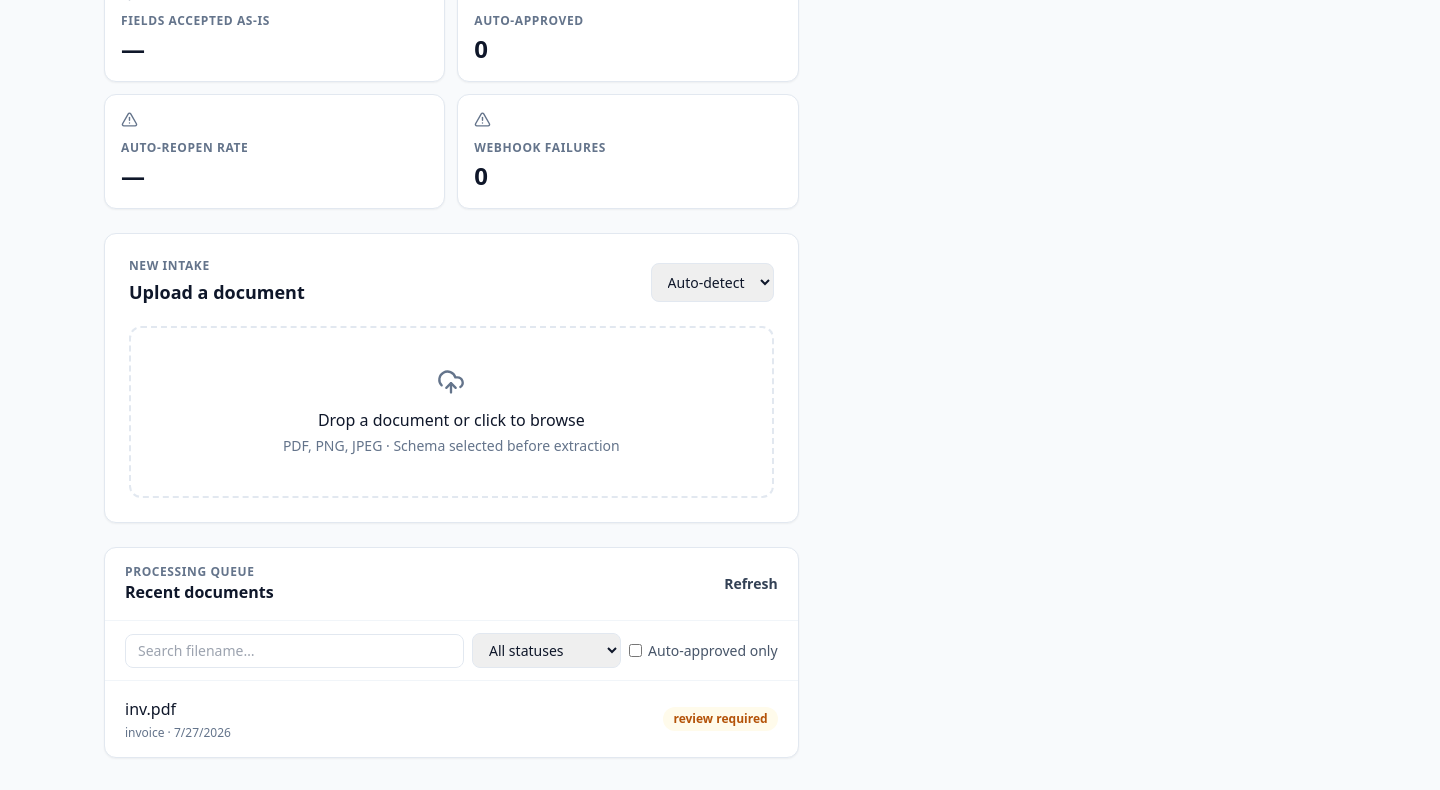
anomaly chips + real pipeline trace › renders an amber chip for each anomaly on the selected document
(page scrolled)
Click the text "inv.pdf" at (150, 709), box [125,698,176,720]
(page scrolled)
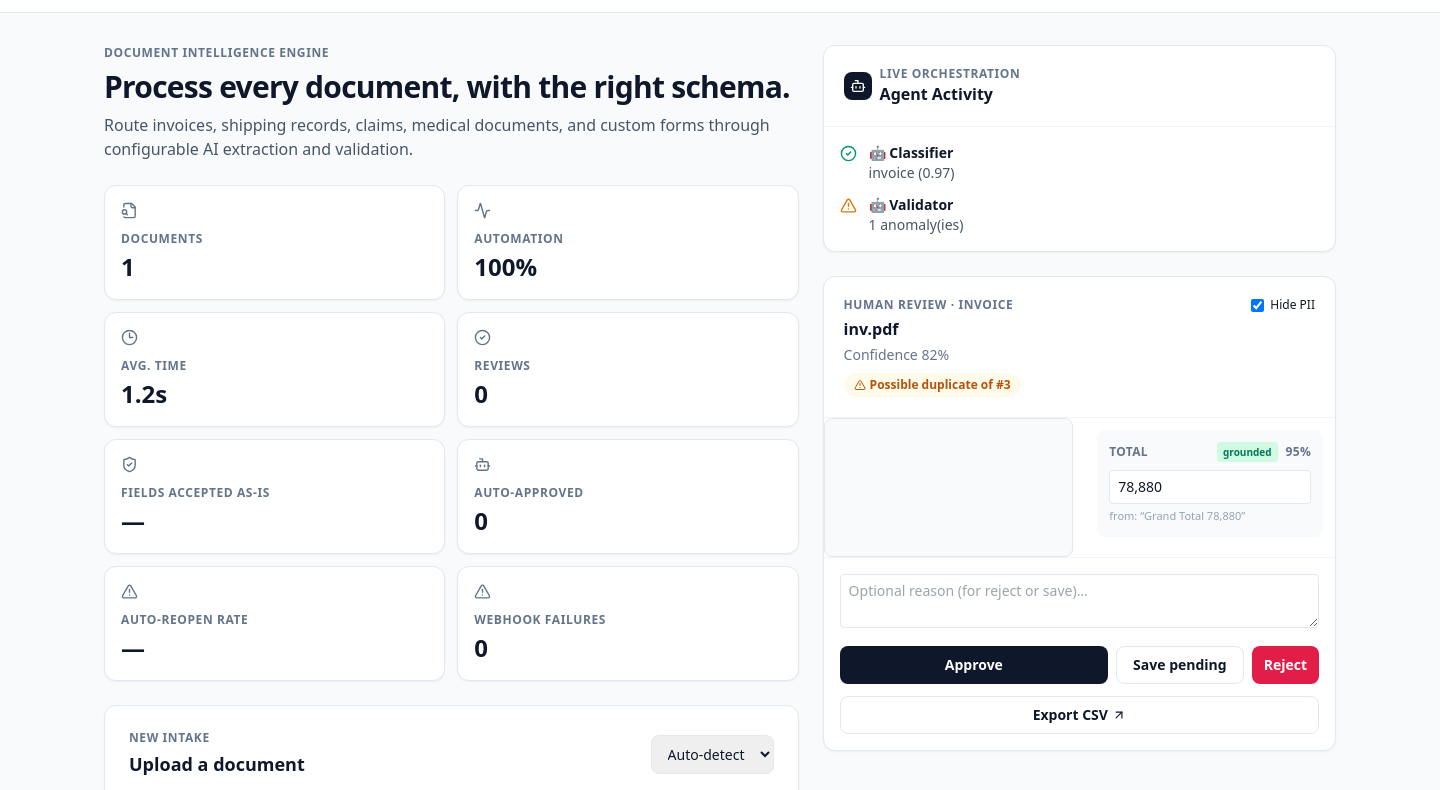
Check: the text "Possible duplicate of #3" is shown, box [844,373,1021,397]
